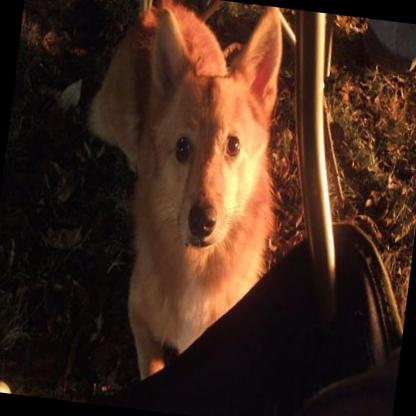Pembroke: (54, 0, 299, 393)
